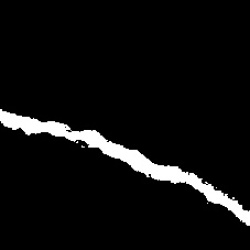crack: (3, 108, 249, 226)
